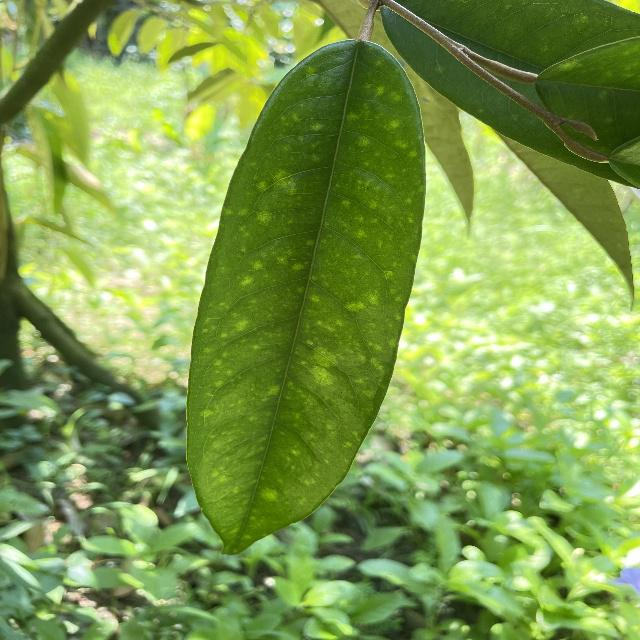Leaf Spot: (183, 21, 434, 556)
